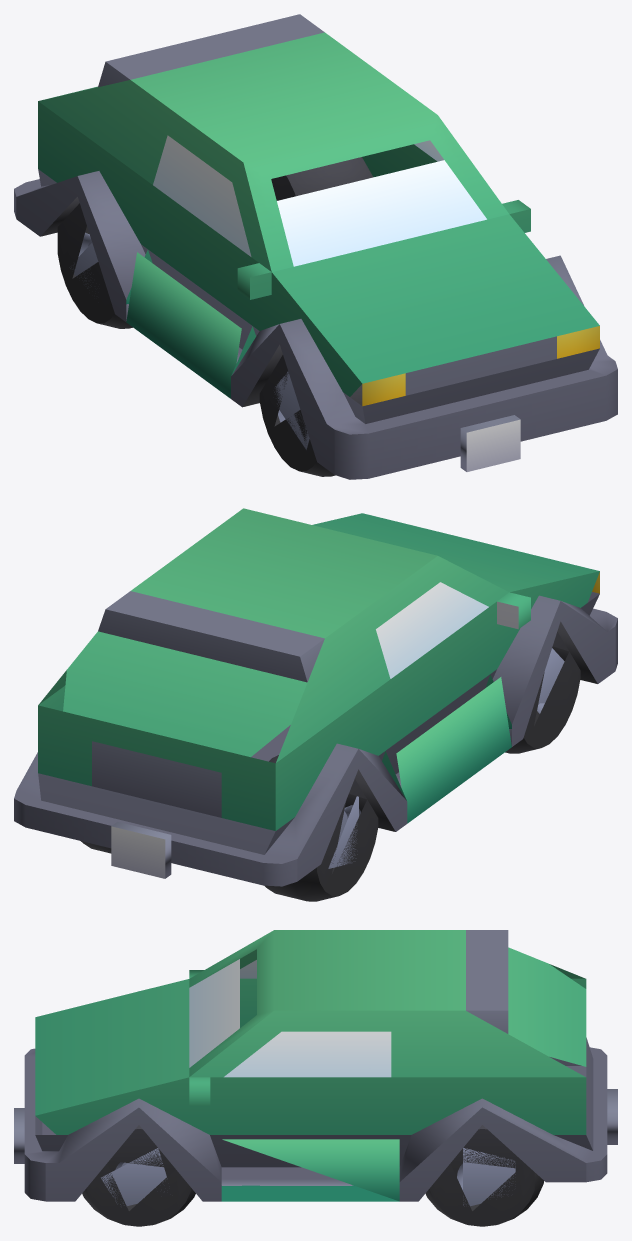
File: pod.glb
The picture shows the model from 3 angles, top to bottom: view 1: azimuth 30°, elevation 25°; view 2: azimuth 150°, elevation 25°; view 3: azimuth 270°, elevation 25°; orthographic projection. The views are drawn at different scales.
Parts seen in each view (by area): view 1: wheel-front-right; view 2: wheel-front-right; view 3: wheel-front-right.
Part boxes in pixels (x1,y1,x2,y2): wheel-front-right: (14, 14, 617, 479); wheel-front-right: (14, 508, 617, 901); wheel-front-right: (14, 930, 617, 1226).
Size of the model in its own units: 1.3 by 1.1 by 2.85.
1 material, 1 textured.
